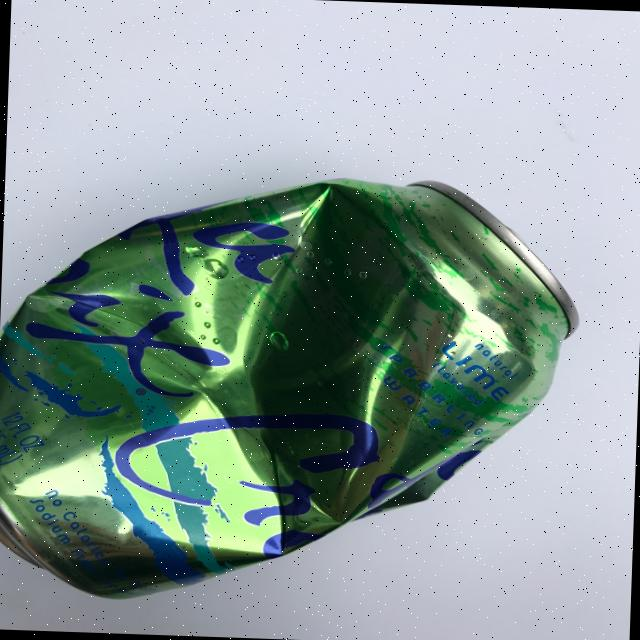metal: (0, 163, 584, 615)
